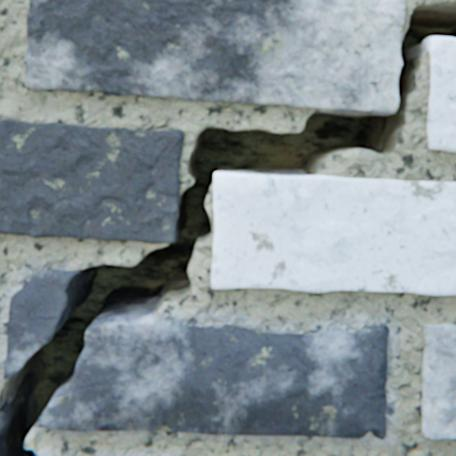brick: (26, 0, 404, 113), (211, 172, 455, 294), (0, 120, 183, 242), (421, 323, 455, 438), (426, 37, 455, 152)
broken_brick: (35, 315, 388, 437), (5, 269, 79, 378), (0, 410, 5, 430)
crack: (0, 2, 455, 455)
